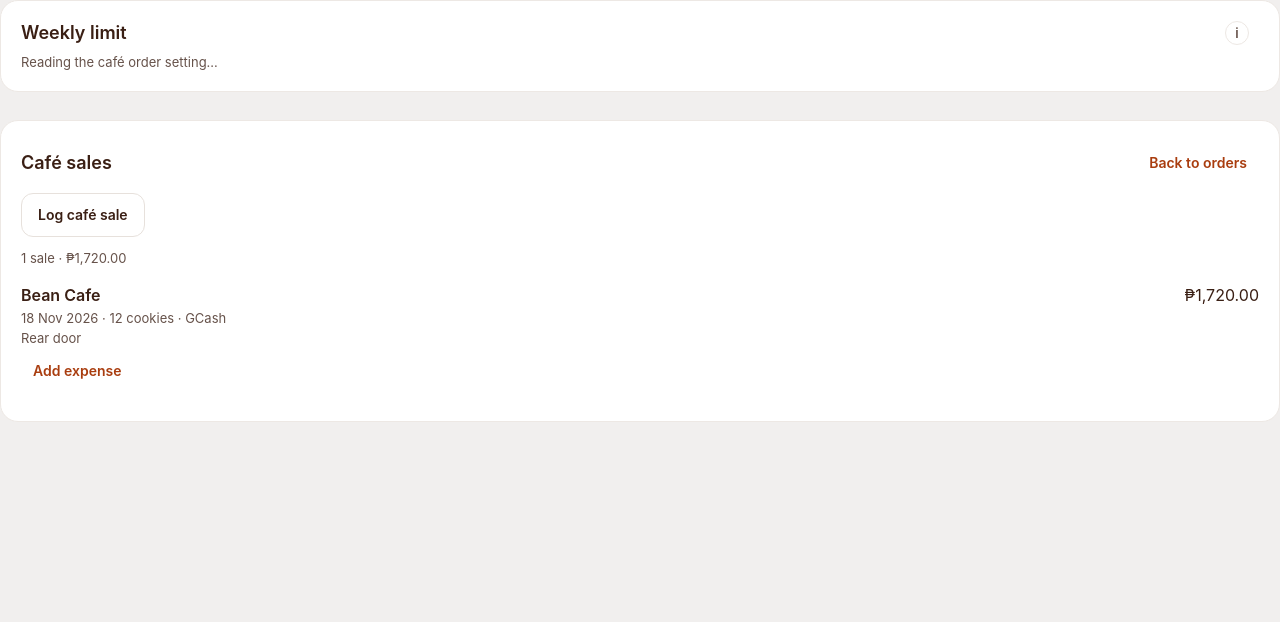
Scenario: the Café sales view › adds an expense to a sale already logged, once, and reads the log again
The image size is (1280, 622).
Click the button with aria-label "Add an expense to the sale for Bean Cafe" at [77, 371], box left=21, top=349, right=134, bottom=393
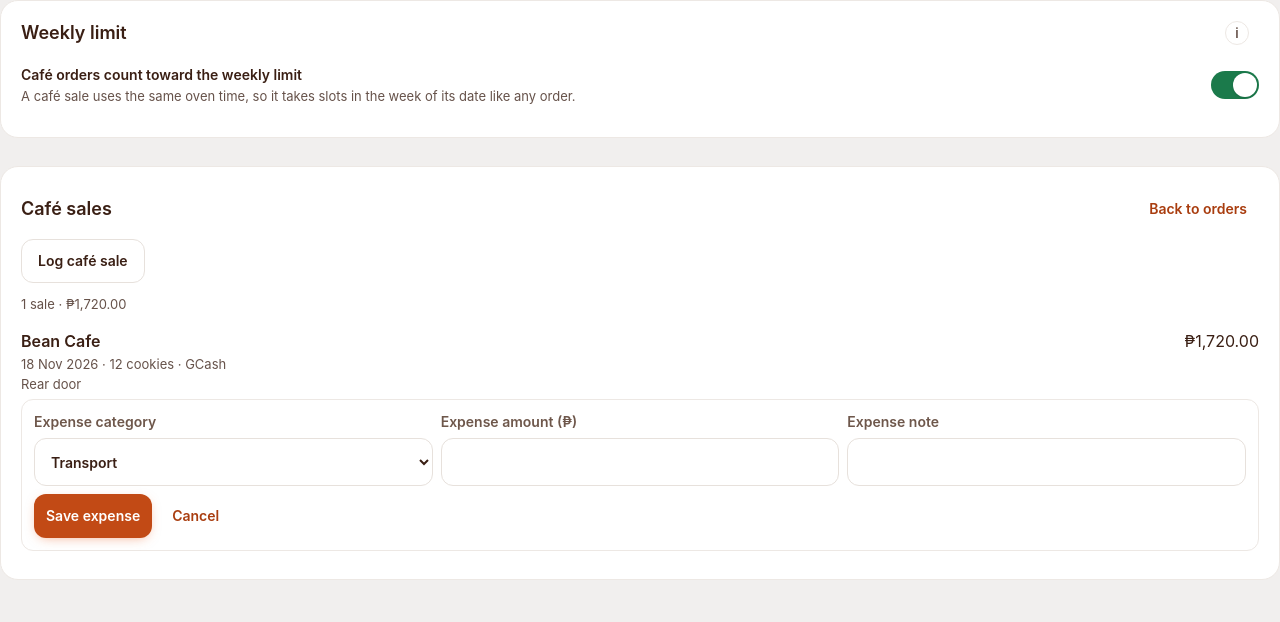
Click the button "Save expense" at [93, 516], box left=34, top=494, right=152, bottom=538
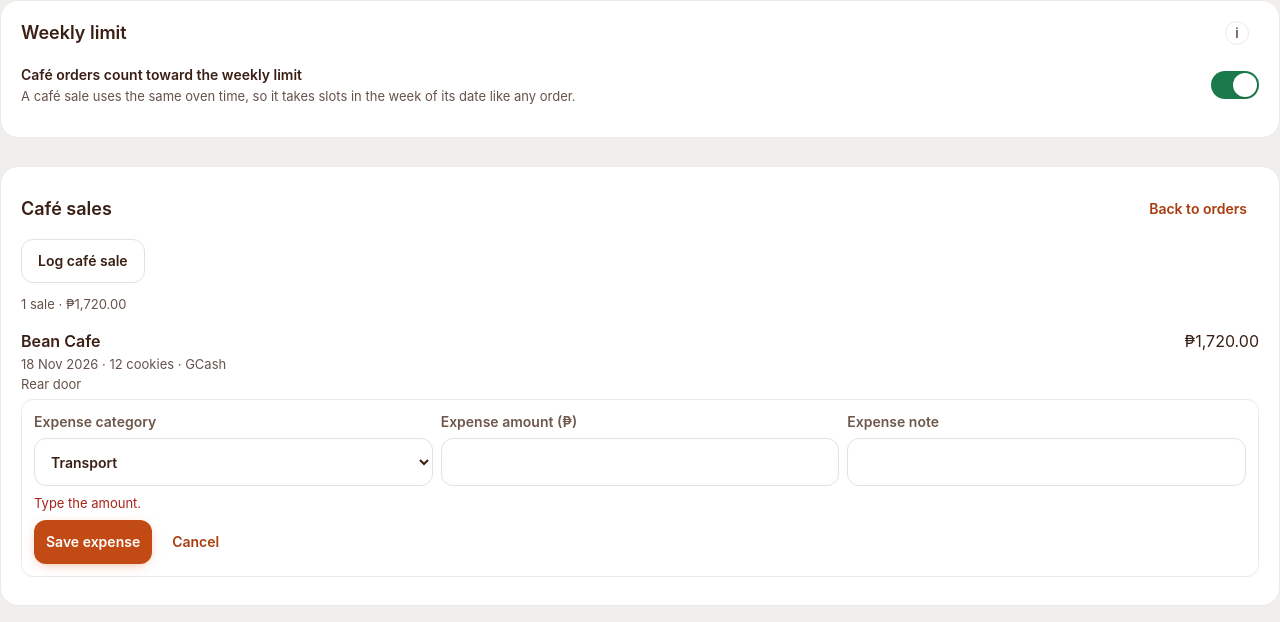
Result: the message reads "Type the amount." at left=34, top=495, right=141, bottom=511
Type "3" into the field labelled "Expense amount (₱)" at [640, 462], box left=441, top=438, right=839, bottom=486
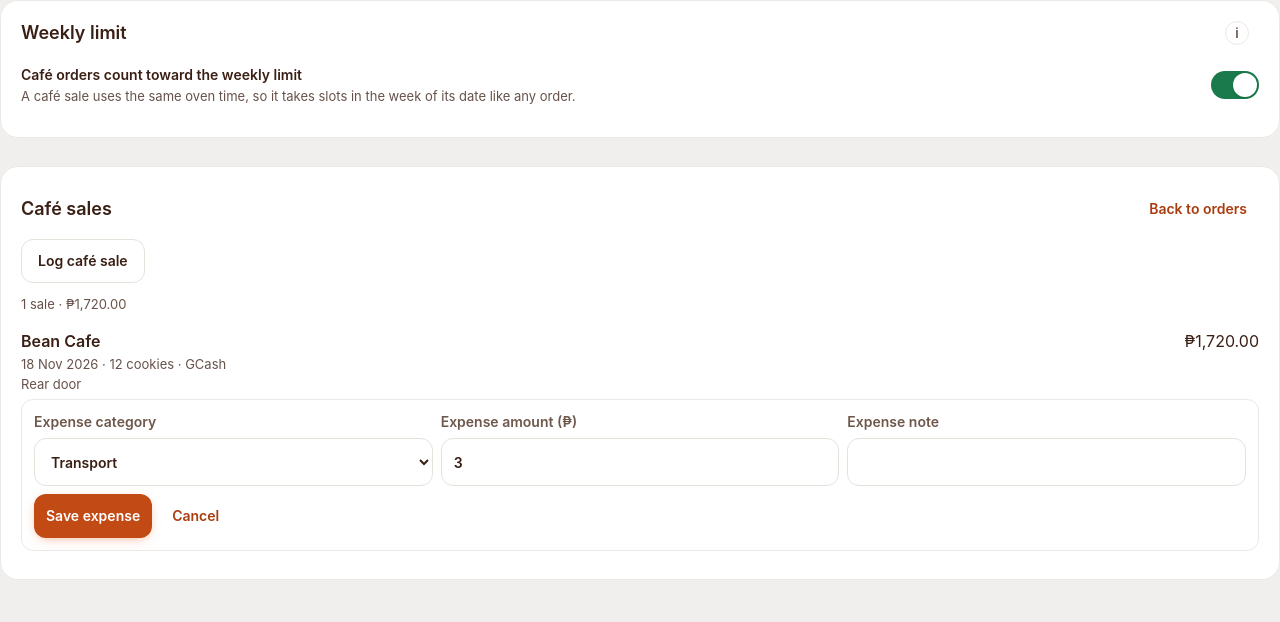
Type "Late bags" into the field labelled "Expense note" at [1047, 462], box left=847, top=438, right=1246, bottom=486
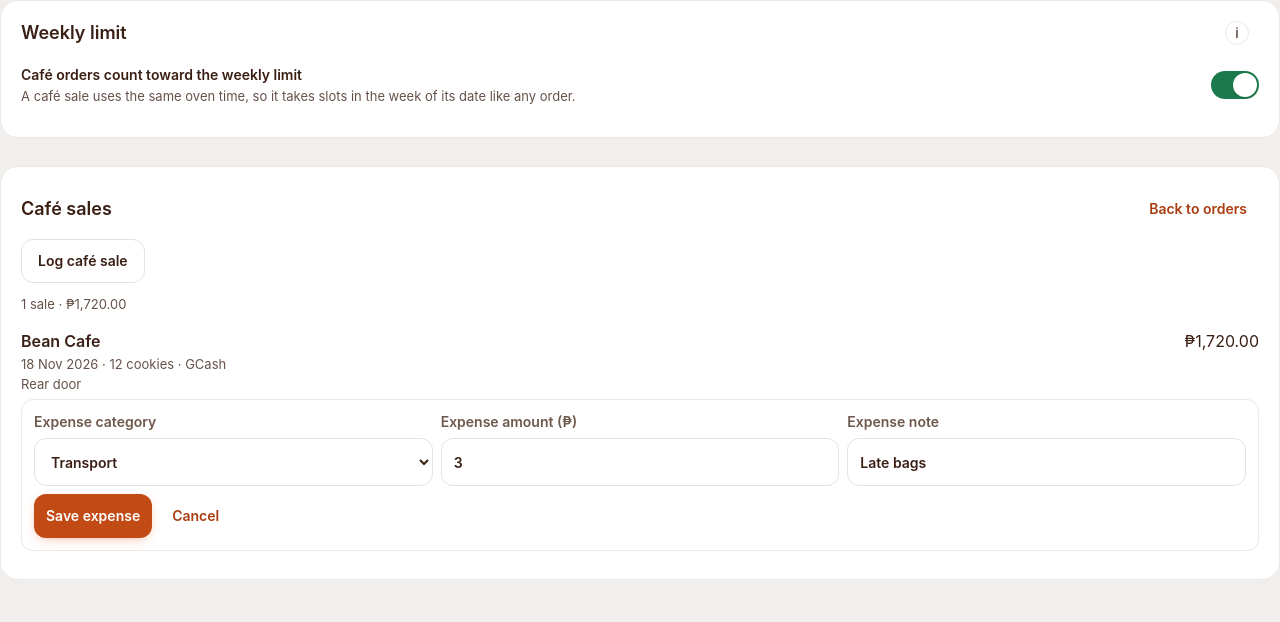
Click the button "Save expense" at [93, 516], box left=34, top=494, right=152, bottom=538
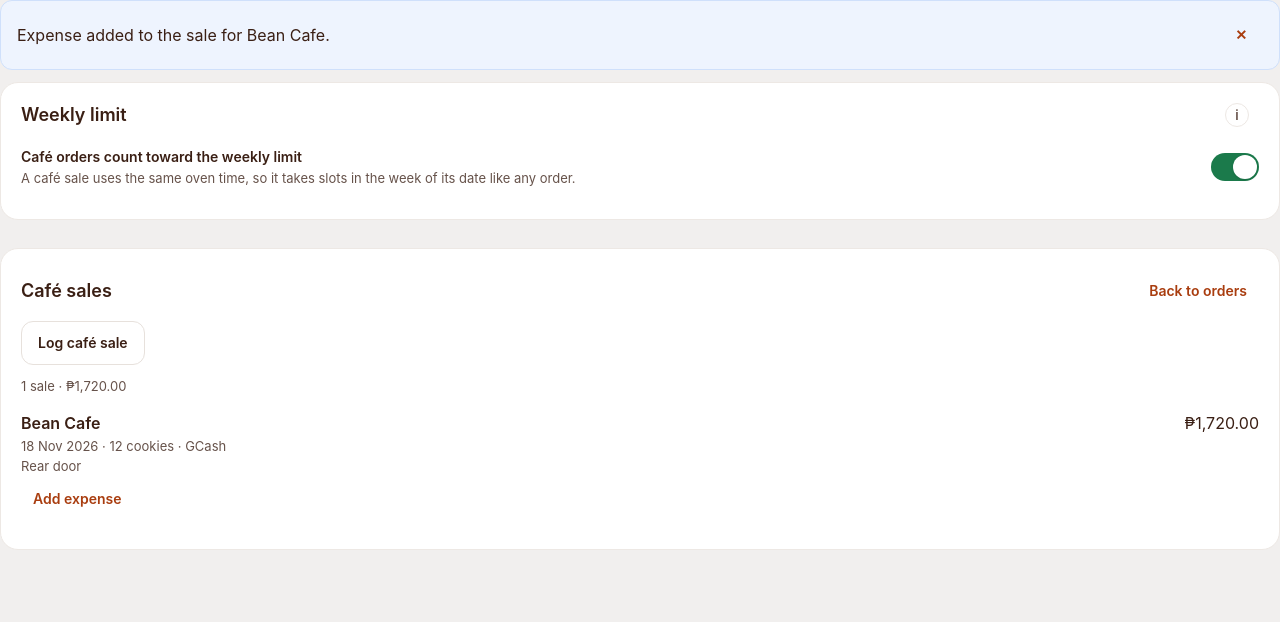
Result: the text "Expense added to the sale for Bean Cafe." is shown at left=17, top=25, right=330, bottom=45
